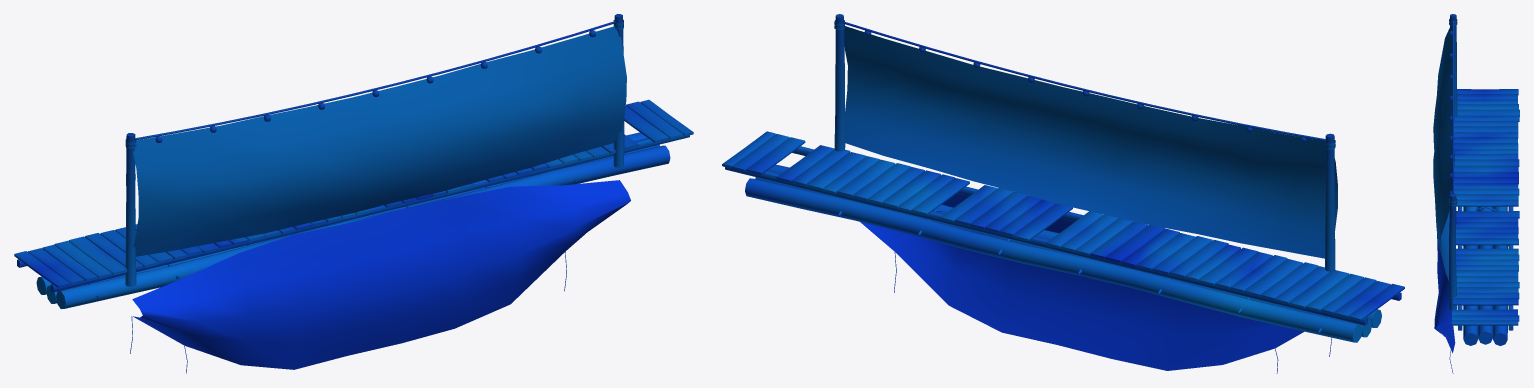
The model's file is net_pen_split_a.glb.
3 renders of one model, left to right at view 1: azimuth 30°, elevation 25°; view 2: azimuth 150°, elevation 25°; view 3: azimuth 270°, elevation 25°, orthographic. The views are drawn at different scales.
Visible parts, largest first — view 1: net_pen_split_a; view 2: net_pen_split_a; view 3: net_pen_split_a.
Part boxes in pixels (left/top/right/bottom): net_pen_split_a: left=14, top=14, right=693, bottom=373; net_pen_split_a: left=722, top=14, right=1404, bottom=373; net_pen_split_a: left=1433, top=14, right=1519, bottom=373.
Size of what is drawn, in the model's own units: 12 by 4.95 by 1.87.
